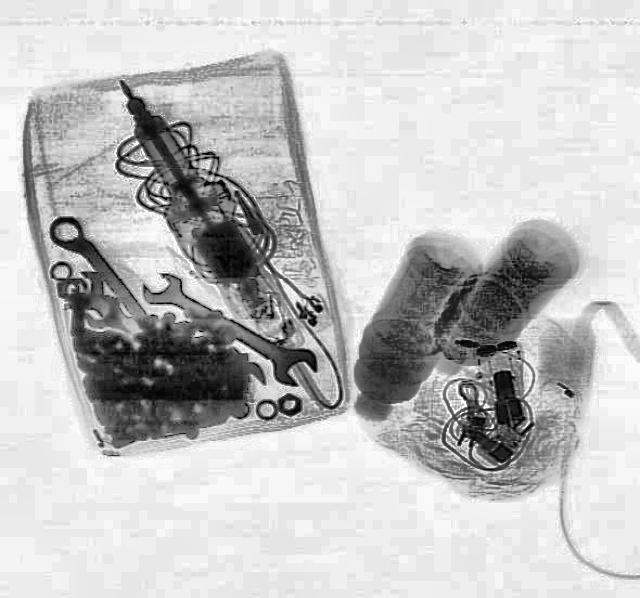Wrench: (130, 259, 326, 393), (38, 208, 156, 326), (55, 266, 145, 344), (82, 290, 150, 346)
